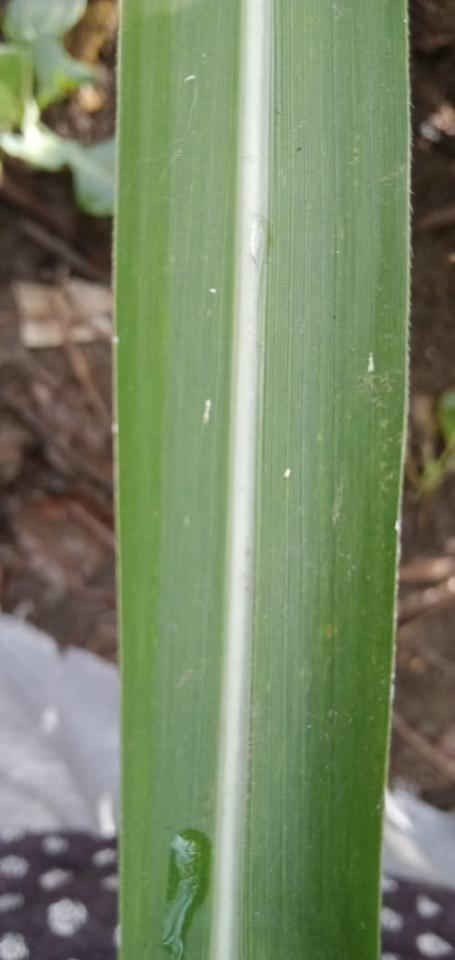Healthy: (114, 0, 408, 959)
